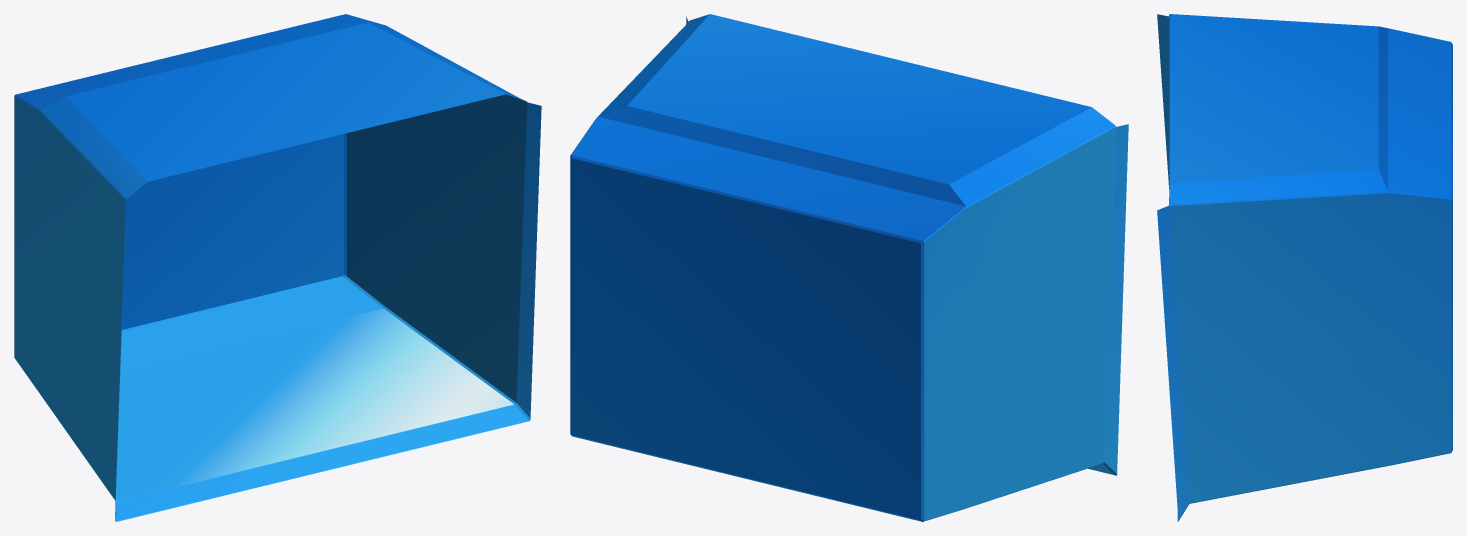
File: view-crt-clear.obj
The picture shows the model from 3 angles, left to right: view 1: azimuth 30°, elevation 25°; view 2: azimuth 150°, elevation 25°; view 3: azimuth 270°, elevation 25°; orthographic projection. The views are drawn at different scales.
Bounding box in the file's own units: 70 × 54.12 × 44.54.
1 material, 1 textured.
